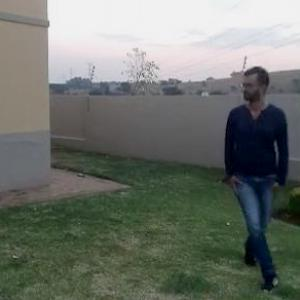follow: (216, 60, 276, 276)
